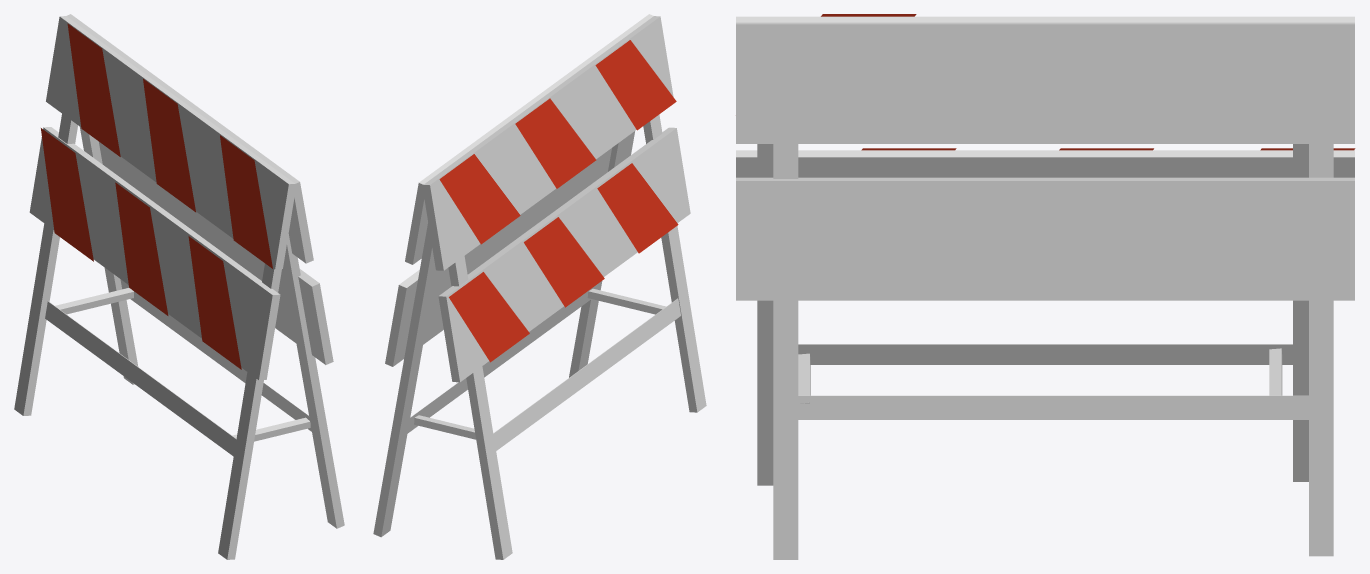
Rendered from block.fbx.
3 renders of one model, left to right at view 1: azimuth 30°, elevation 25°; view 2: azimuth 150°, elevation 25°; view 3: azimuth 270°, elevation 25°, orthographic. The views are drawn at different scales.
Visible parts, largest first — view 1: block; view 2: block; view 3: block.
Part boxes in pixels (x1,y1,x2,y2): block: (14, 14, 344, 559); block: (373, 14, 706, 559); block: (736, 14, 1355, 559).
Bounding box in the file's own units: 1.62 × 4.46 × 5.01.
